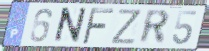5: (171, 9, 198, 46)
6: (28, 7, 54, 44)
F: (80, 6, 116, 46)
N: (51, 6, 89, 45)
R: (138, 9, 171, 46)
Z: (110, 8, 143, 46)
